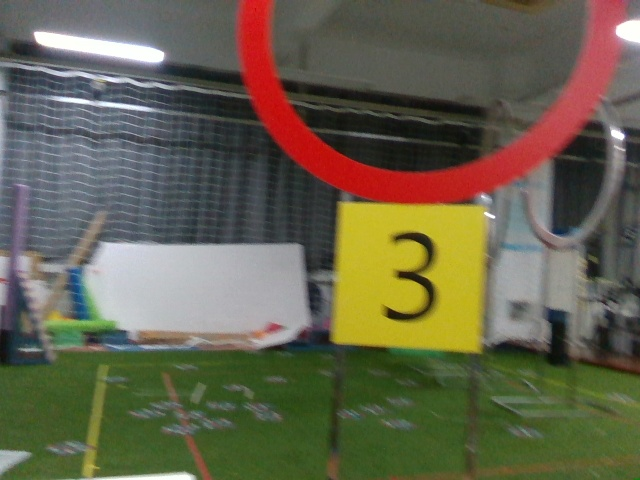target: (333, 205, 484, 346)
